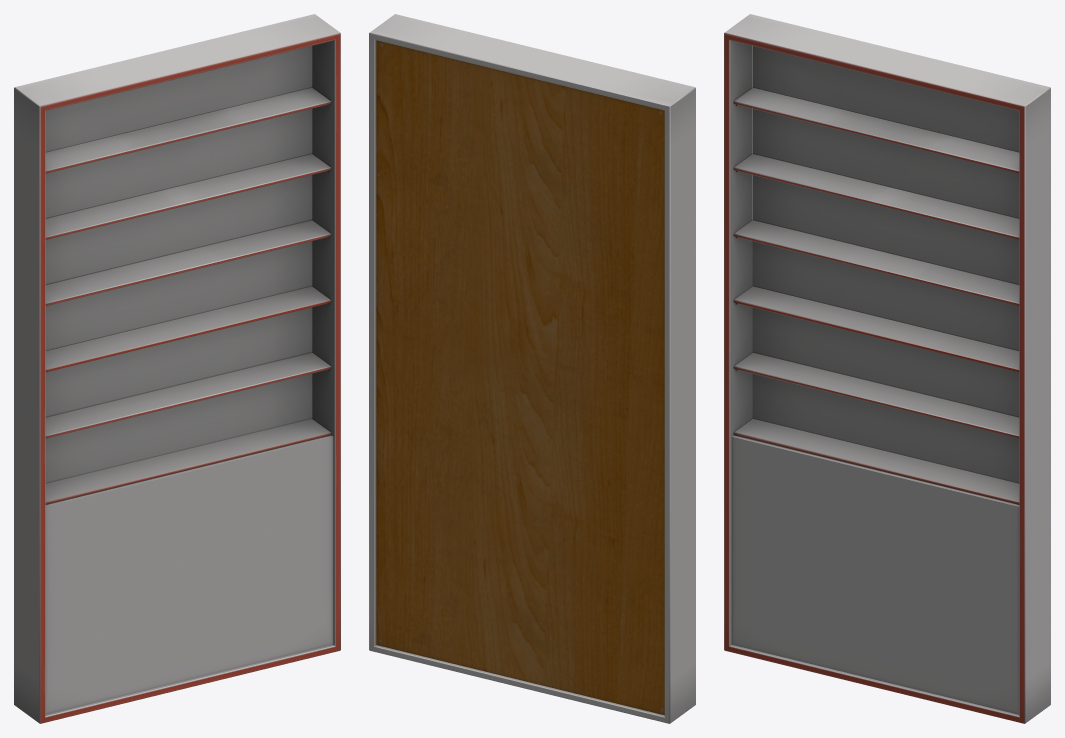
The model's file is video_store_shelf_archive.obj.
3 views of the same model, side by side, from view 1: azimuth 30°, elevation 25°; view 2: azimuth 150°, elevation 25°; view 3: azimuth 330°, elevation 25° (orthographic).
Parts seen in each view (by area): view 1: Mesh9_Group13_Group1_Model; view 2: Mesh9_Group13_Group1_Model; view 3: Mesh9_Group13_Group1_Model.
Boxes of the visible parts, left/top/right/bottom form: Mesh9_Group13_Group1_Model: left=14, top=14, right=340, bottom=723; Mesh9_Group13_Group1_Model: left=369, top=14, right=695, bottom=723; Mesh9_Group13_Group1_Model: left=724, top=14, right=1050, bottom=723.
Bounding box in the file's own units: 1 × 1.96 × 0.15.
1 material, 1 textured.
